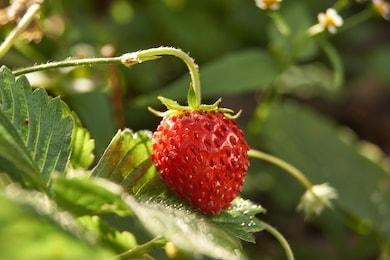Fresa: (146, 96, 260, 223)
